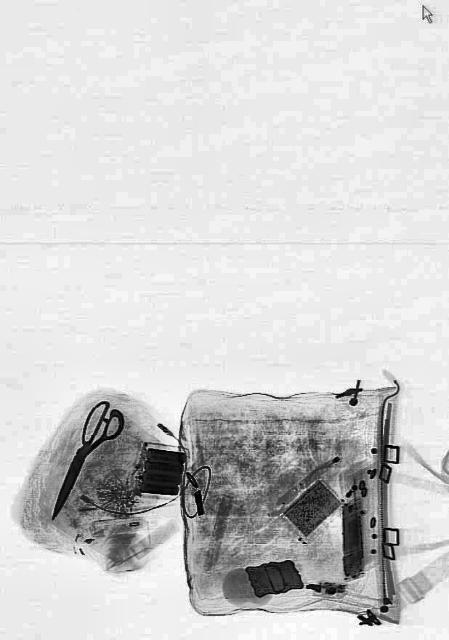Scissors: (39, 393, 126, 535)
